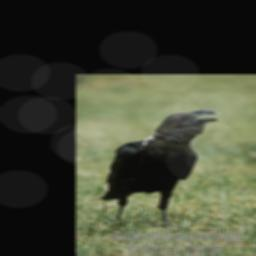Crow: (97, 107, 225, 231)
